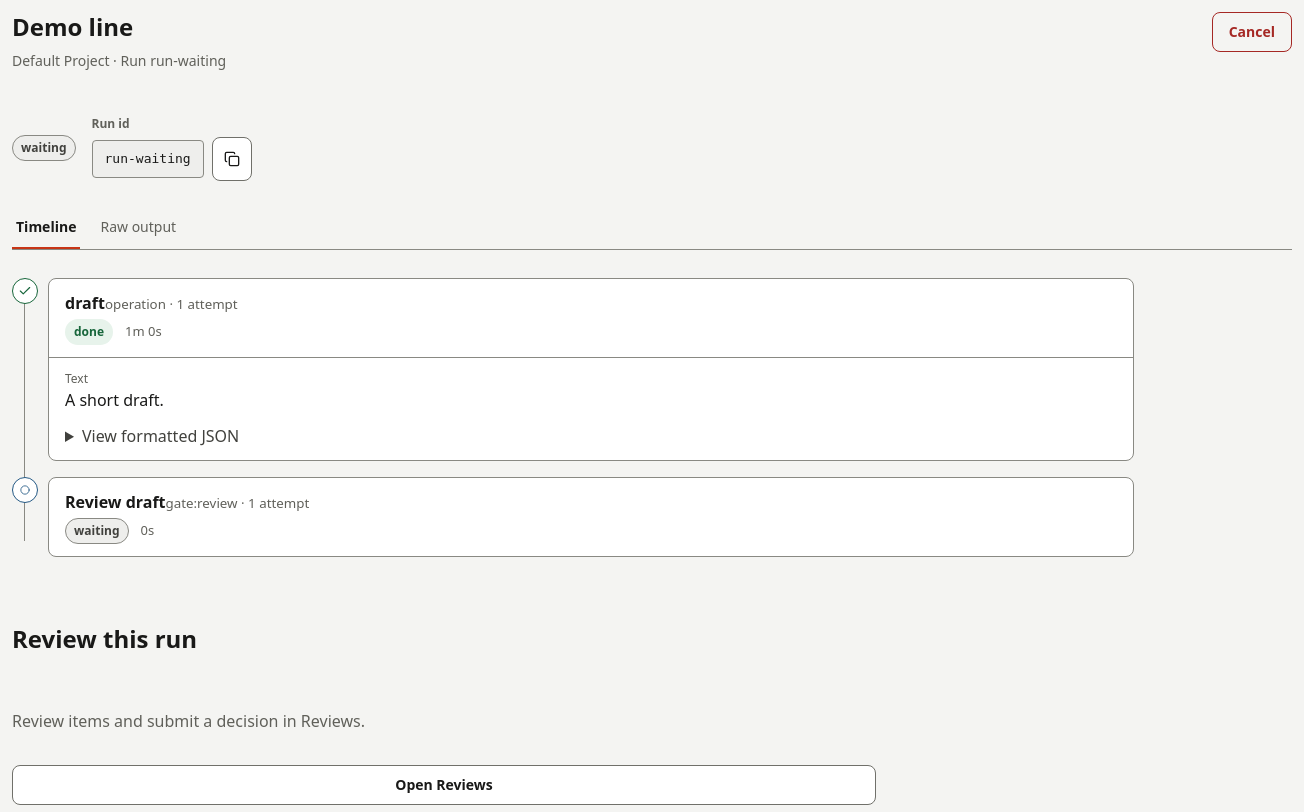
U2 production areas › expands a stage output with formatted JSON in run detail
Click the tab "Raw output" at (138, 227), box [96,205,180,249]
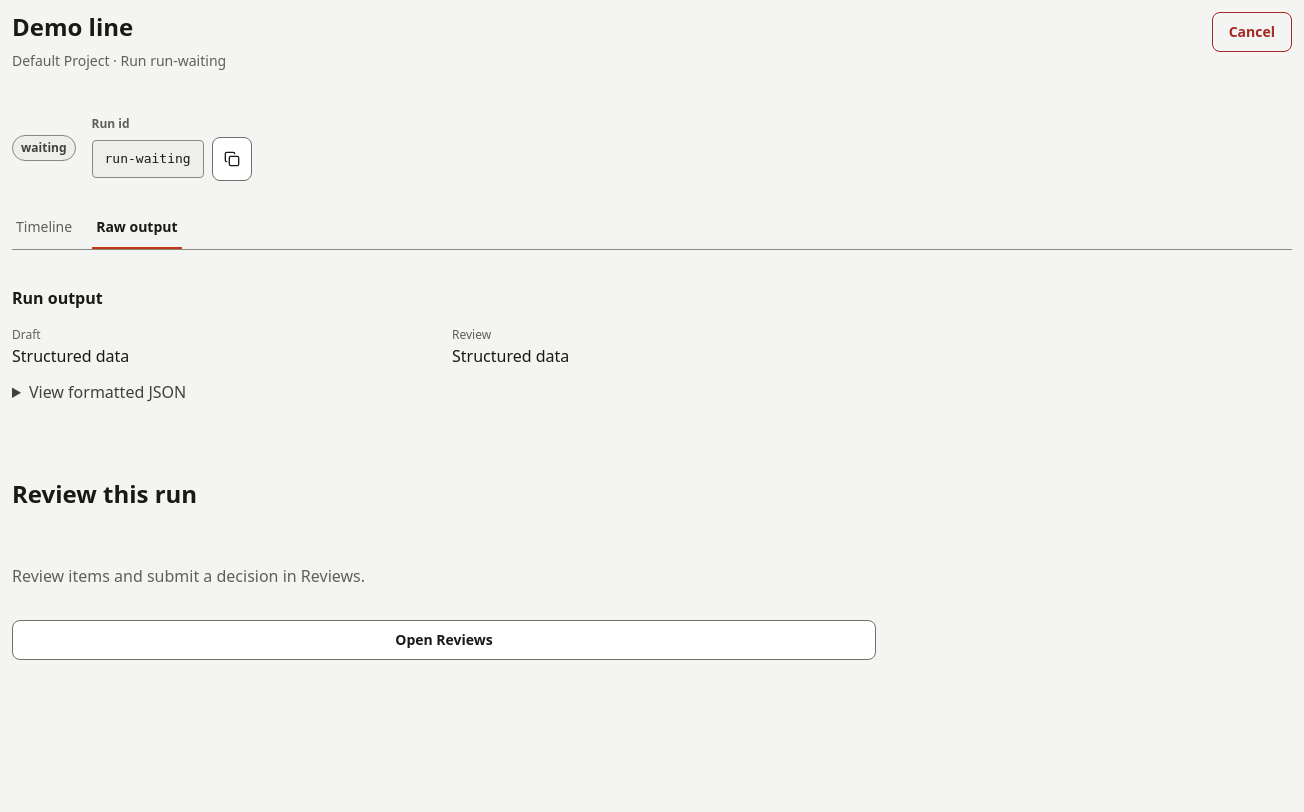
Now the element named "Run output" is shown, box [12,287,569,403]
